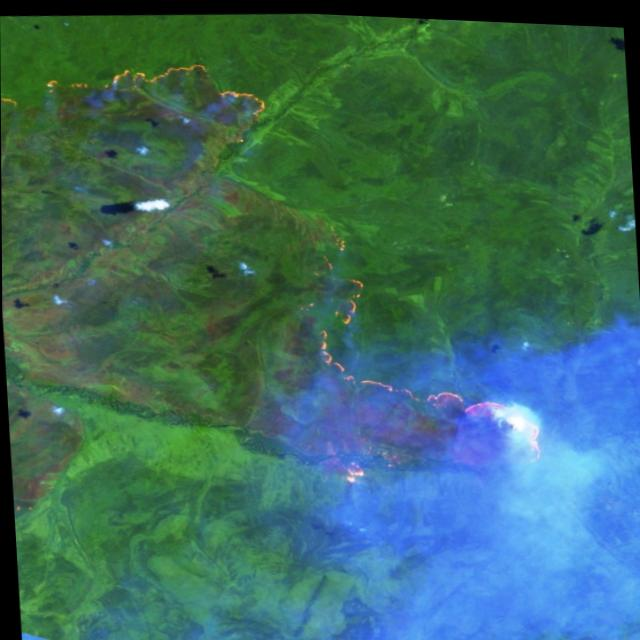fire: (254, 204, 553, 496), (17, 44, 287, 136)
